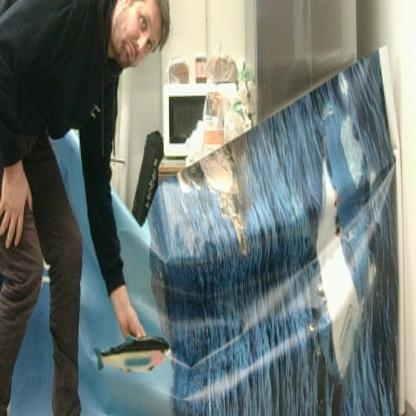rubberfish: (94, 333, 171, 376)
